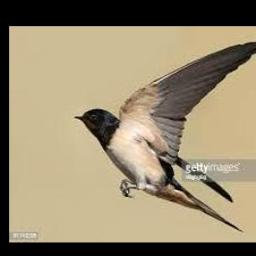Swallow: (72, 41, 256, 232)
